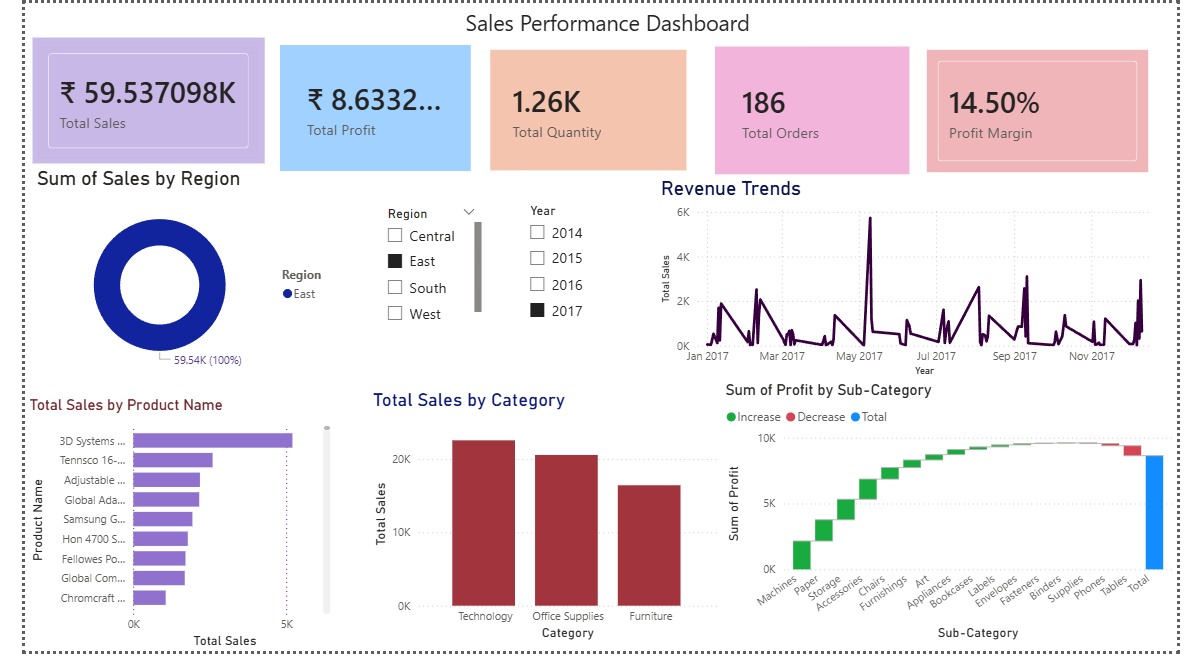

The dashboard page shown, as its layout file describes it:
{"tool":"powerbi","page":{"name":"Page 1","canvas":[1280,720],"ordinal":0},"visuals":[{"type":"lineChart","title":"     Revenue Trends","fields":{"Y":["Sample - Superstore.Total Sales"],"Category":["Sample - Superstore.Order Date.Variation.Date Hierarchy.Year","Sample - Superstore.Order Date.Variation.Date Hierarchy.Month","Sample - Superstore.Order Date.Variation.Date Hierarchy.Day"]},"box":[702,194,570,226],"z":0},{"type":"clusteredBarChart","fields":{"Category":["Sample - Superstore.Product Name"],"Y":["Sample - Superstore.Total Sales"]},"box":[0,436,344,284],"z":1000},{"type":"clusteredColumnChart","fields":{"Category":["Sample - Superstore.Category"],"Y":["Sample - Superstore.Total Sales"]},"box":[382,428,392,284],"z":2000},{"type":"donutChart","fields":{"Category":["Sample - Superstore.Region"],"Y":["Sum(Sample - Superstore.Sales)"]},"box":[8,182,346,238],"z":3000},{"type":"waterfallChart","fields":{"Category":["Sample - Superstore.Sub-Category"],"Y":["Sum(Sample - Superstore.Profit)"]},"box":[774,420,506,292],"z":4000},{"type":"slicer","fields":{"Values":["Sample - Superstore.Region"]},"box":[390,220,122,140],"z":5000},{"type":"cardVisual","fields":{"Data":["Sample - Superstore.Total Sales"]},"box":[7.8,37.8,257.8,140],"z":6000},{"type":"cardVisual","fields":{"Data":["Sample - Superstore.Total Profit"]},"box":[284,46,212,140],"z":7000},{"type":"cardVisual","fields":{"Data":["Sample - Superstore.Total Quantity"]},"box":[512,46,228,144],"z":8000},{"type":"cardVisual","fields":{"Data":["Sample - Superstore.Total Orders"]},"box":[766,48,216,142],"z":9000},{"type":"cardVisual","fields":{"Data":["Sample - Superstore.Profit Margin"]},"box":[996,46,256,146],"z":10000},{"type":"slicer","fields":{"Values":["Sample - Superstore.Order Date.Variation.Date Hierarchy.Year"]},"box":[548,216,154,152],"z":10001},{"type":"textbox","box":[374.4,0,503.3,46.7],"z":10002}]}

Visuals, with their boxes in screenshot pixels (x1, y1, x2, y2), scaled from the page's 1280x720 canvas onto the 1204x666 screenshot:
"     Revenue Trends" lineChart: l=660, t=179, r=1196, b=388
clusteredBarChart - Sample - Superstore.Product Name x Sample - Superstore.Total Sales: l=0, t=403, r=324, b=665
clusteredColumnChart - Sample - Superstore.Category x Sample - Superstore.Total Sales: l=359, t=396, r=728, b=659
donutChart - Sample - Superstore.Region x Sum(Sample - Superstore.Sales): l=8, t=168, r=333, b=388
waterfallChart - Sample - Superstore.Sub-Category x Sum(Sample - Superstore.Profit): l=728, t=388, r=1203, b=659
slicer - Sample - Superstore.Region: l=367, t=204, r=482, b=333
cardVisual - Sample - Superstore.Total Sales: l=7, t=35, r=250, b=164
cardVisual - Sample - Superstore.Total Profit: l=267, t=43, r=467, b=172
cardVisual - Sample - Superstore.Total Quantity: l=482, t=43, r=696, b=176
cardVisual - Sample - Superstore.Total Orders: l=721, t=44, r=924, b=176
cardVisual - Sample - Superstore.Profit Margin: l=937, t=43, r=1178, b=178
slicer - Sample - Superstore.Order Date.Variation.Date Hierarchy.Year: l=515, t=200, r=660, b=340
textbox: l=352, t=0, r=826, b=43
